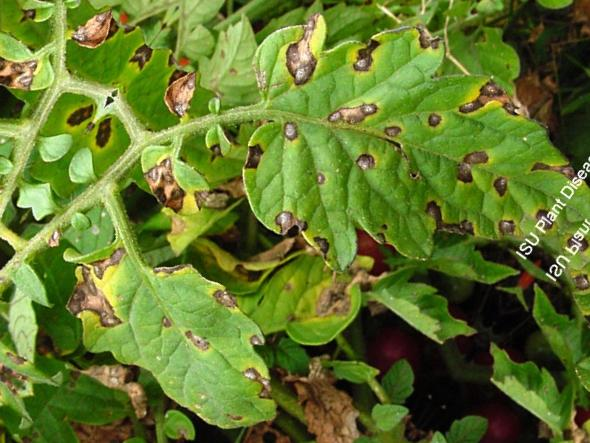Tomato leaf bacterial spot: (173, 0, 590, 370), (18, 191, 352, 443), (219, 213, 394, 389), (108, 107, 239, 238)
